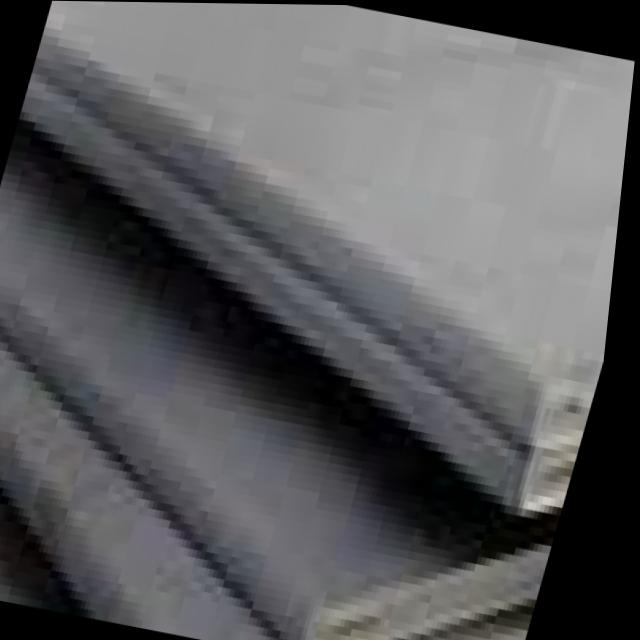metal-plates: (1, 2, 637, 640)
